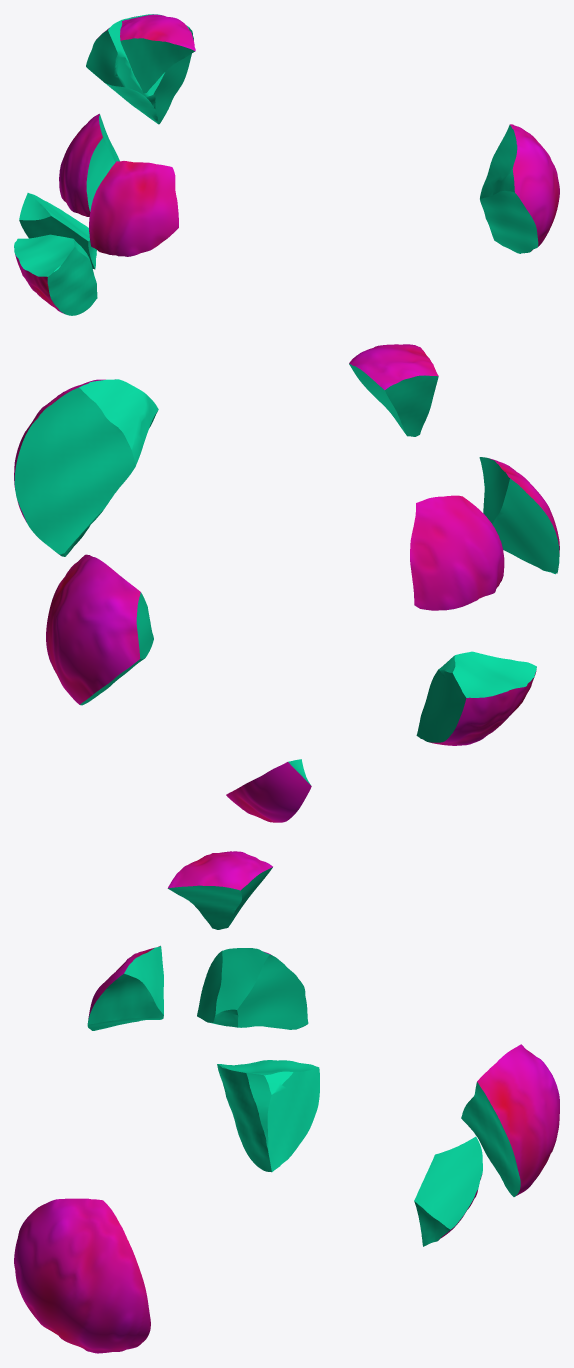
Rendered from world-macro.glb.
The picture shows the model from 3 angles, top to bottom: view 1: azimuth 30°, elevation 25°; view 2: azimuth 150°, elevation 25°; view 3: azimuth 270°, elevation 25°; orthographic projection. The views are drawn at different scales.
Visible parts, largest first — view 1: MACRO_00, MACRO_04, MACRO_03, MACRO_01, MACRO_06, MACRO_05, MACRO_07; view 2: MACRO_00, MACRO_01, MACRO_05, MACRO_03, MACRO_04, MACRO_06, MACRO_07; view 3: MACRO_00, MACRO_01, MACRO_03, MACRO_05, MACRO_06, MACRO_07, MACRO_04.
Boxes of the visible parts, x1,y1,x2,y2 form: MACRO_00: (480,124,559,253); MACRO_04: (89,161,178,256); MACRO_03: (14,234,97,315); MACRO_01: (86,14,193,124); MACRO_06: (120,14,195,93); MACRO_05: (59,113,119,216); MACRO_07: (19,193,96,269); MACRO_00: (14,379,158,556); MACRO_01: (46,554,153,705); MACRO_05: (410,495,504,610); MACRO_03: (416,651,536,745); MACRO_04: (479,457,559,574); MACRO_06: (349,344,438,436); MACRO_07: (226,759,311,822); MACRO_00: (14,1198,150,1353); MACRO_01: (461,1044,559,1196); MACRO_03: (217,1060,319,1172); MACRO_05: (197,948,308,1029); MACRO_06: (167,851,272,929); MACRO_07: (414,1136,482,1246); MACRO_04: (87,945,163,1030).
Size of the model in its own units: 31.84 by 20.7 by 27.48.
